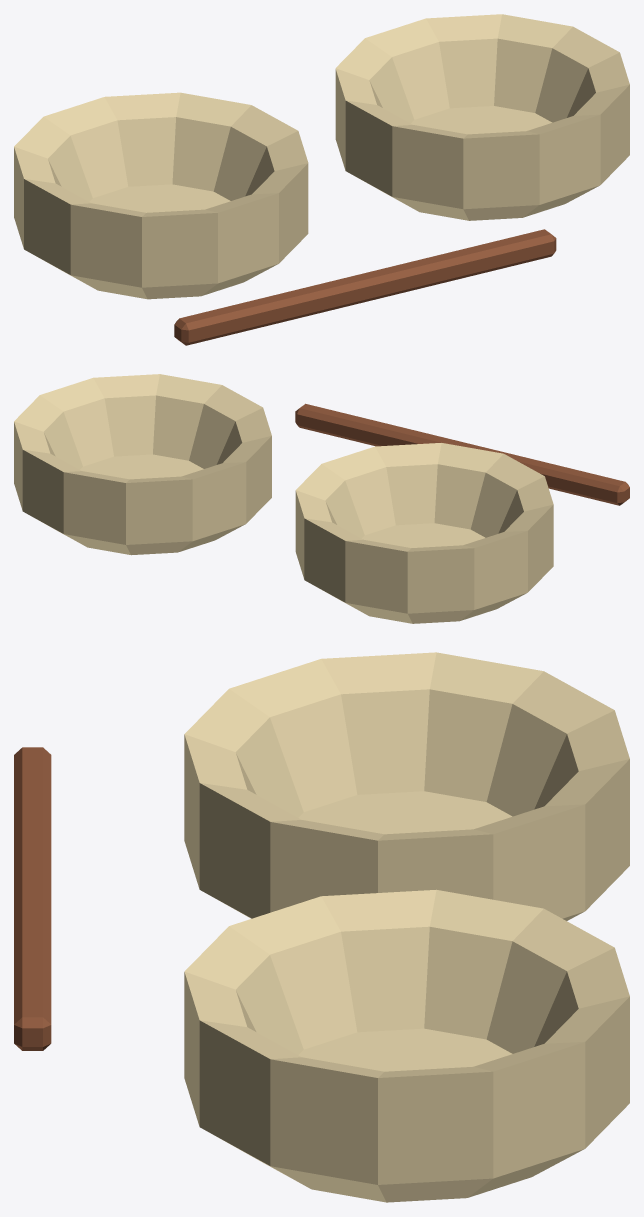
The model's file is residential_accessories.glb.
3 views of the same model, one above another, from view 1: azimuth 30°, elevation 25°; view 2: azimuth 150°, elevation 25°; view 3: azimuth 270°, elevation 25° (orthographic). The views are drawn at different scales.
Visible parts, largest first — view 1: Bowl_Dish_001, Bowl_Dish, Spoon; view 2: Bowl_Dish, Bowl_Dish_001, Spoon; view 3: Bowl_Dish_001, Bowl_Dish, Spoon.
Boxes of the visible parts, <box> form: Bowl_Dish_001: <box>335,14,629,220</box>; Bowl_Dish: <box>14,92,308,299</box>; Spoon: <box>174,229,556,345</box>; Bowl_Dish: <box>295,443,553,623</box>; Bowl_Dish_001: <box>14,374,271,555</box>; Spoon: <box>295,403,629,505</box>; Bowl_Dish_001: <box>184,889,629,1202</box>; Bowl_Dish: <box>184,652,629,920</box>; Spoon: <box>14,747,51,1050</box>.
Size of the model in its own units: 0.5379 by 0.09 by 0.329.
